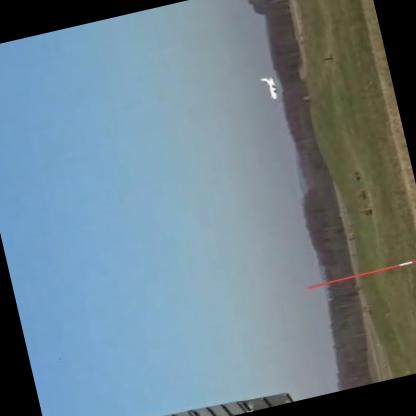plane: (250, 67, 285, 106)
